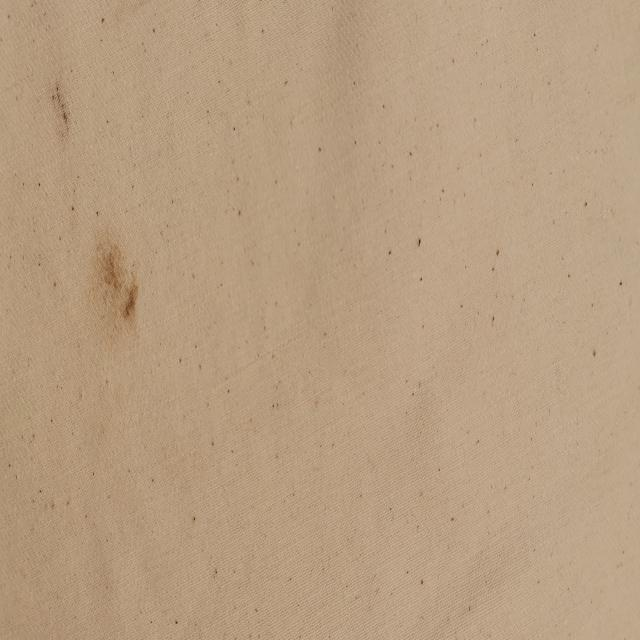taaaches: (82, 228, 146, 348), (48, 78, 78, 150)
